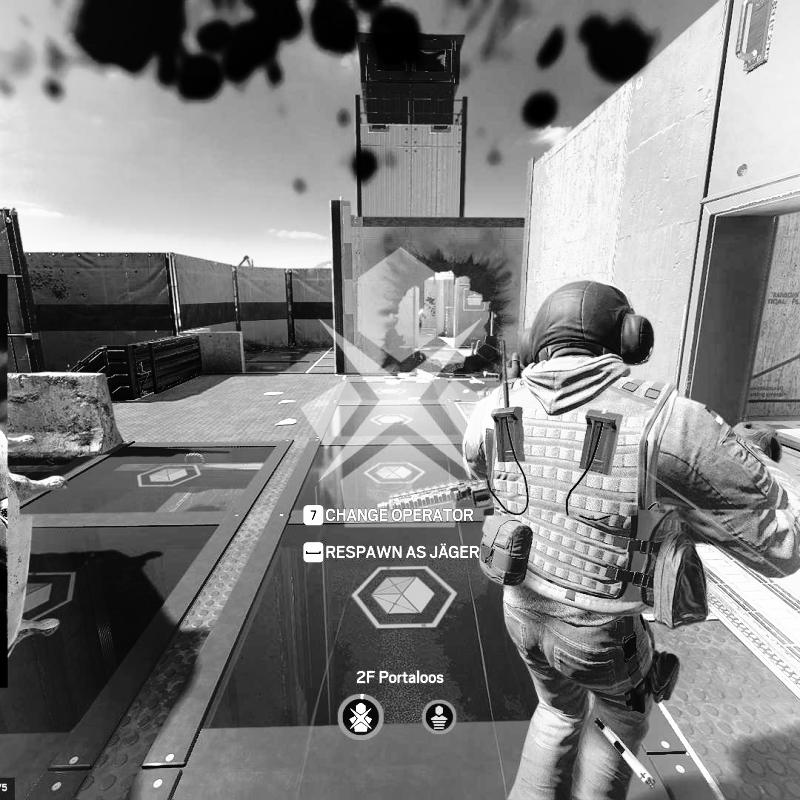Character: (455, 275, 800, 800), (418, 305, 427, 334)
Head: (518, 280, 652, 374), (419, 308, 425, 314)
